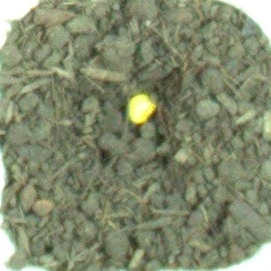chilli seed: (125, 92, 156, 125)
